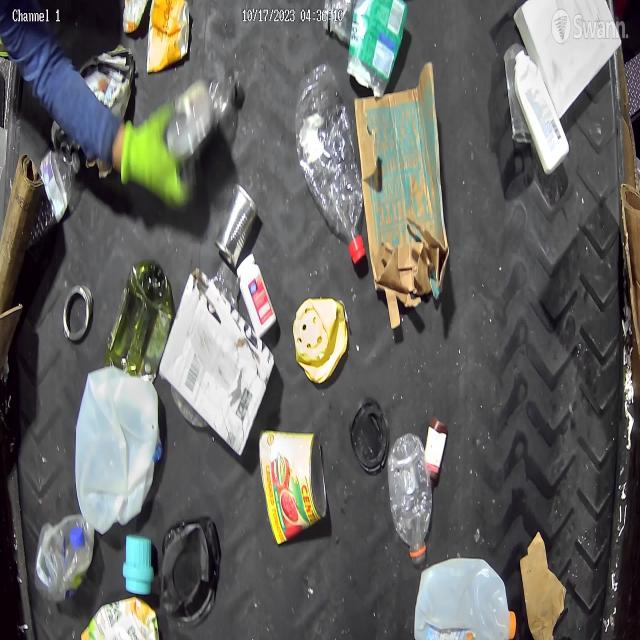milk-jug: (75, 364, 165, 536), (413, 557, 517, 640)
